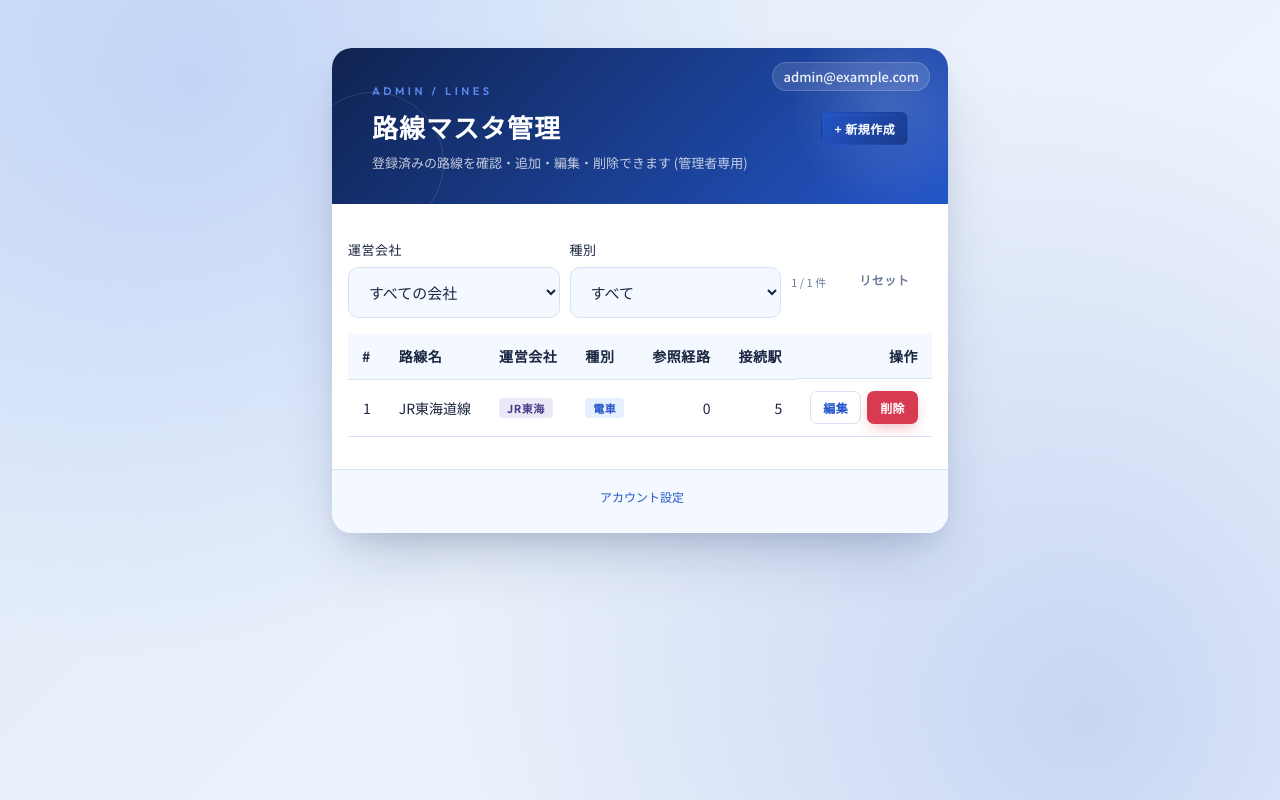
Test case: AdminLines › 削除: 参照ありで 409 を受けるとバナーに件数が出る
The width and height of the screenshot is (1280, 800).
Expected: the text "JR東海道線" is shown, [385,379,485,436]
Click the button with aria-label "路線「JR東海道線」を削除" at (893, 408), box [867,391,918,424]
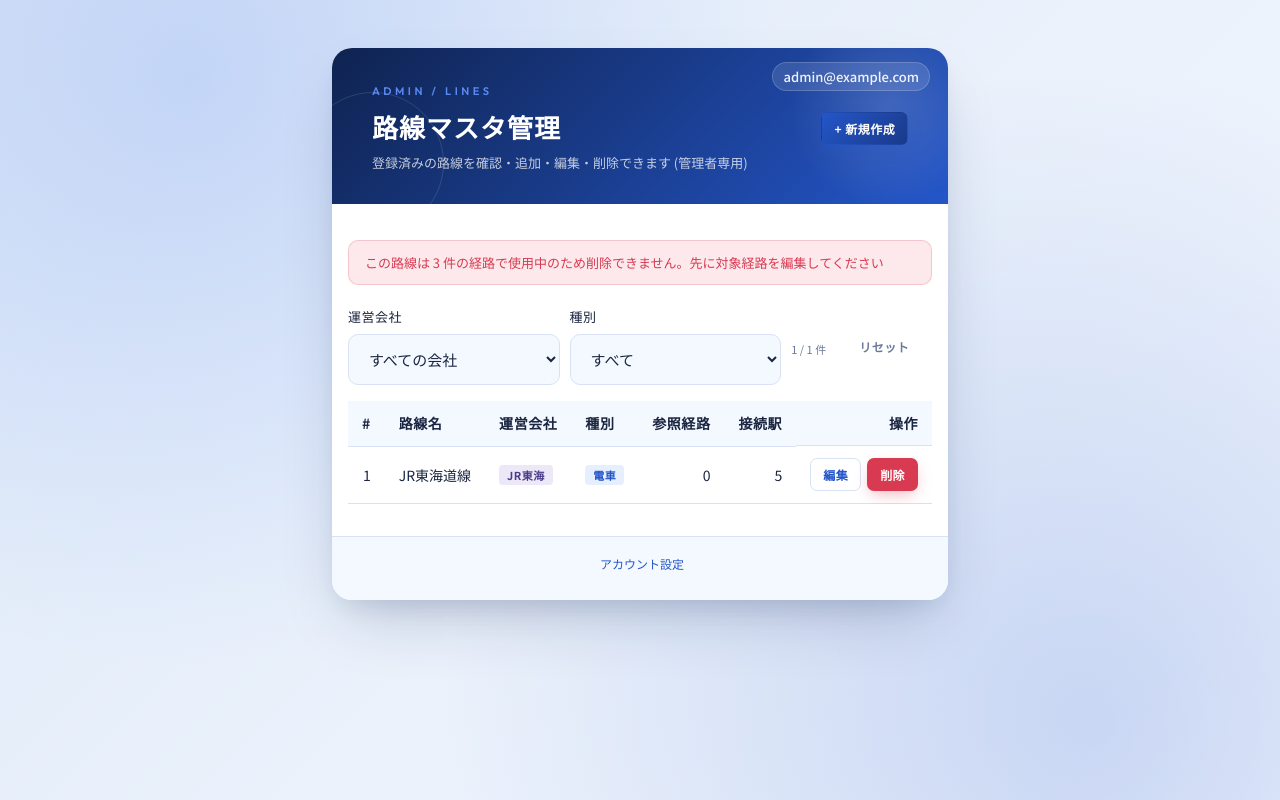
Now the text "この路線は 3 件の経路で使用中のため削除できません。先に対象経路を編集してください" is shown, box [348,240,932,285]
